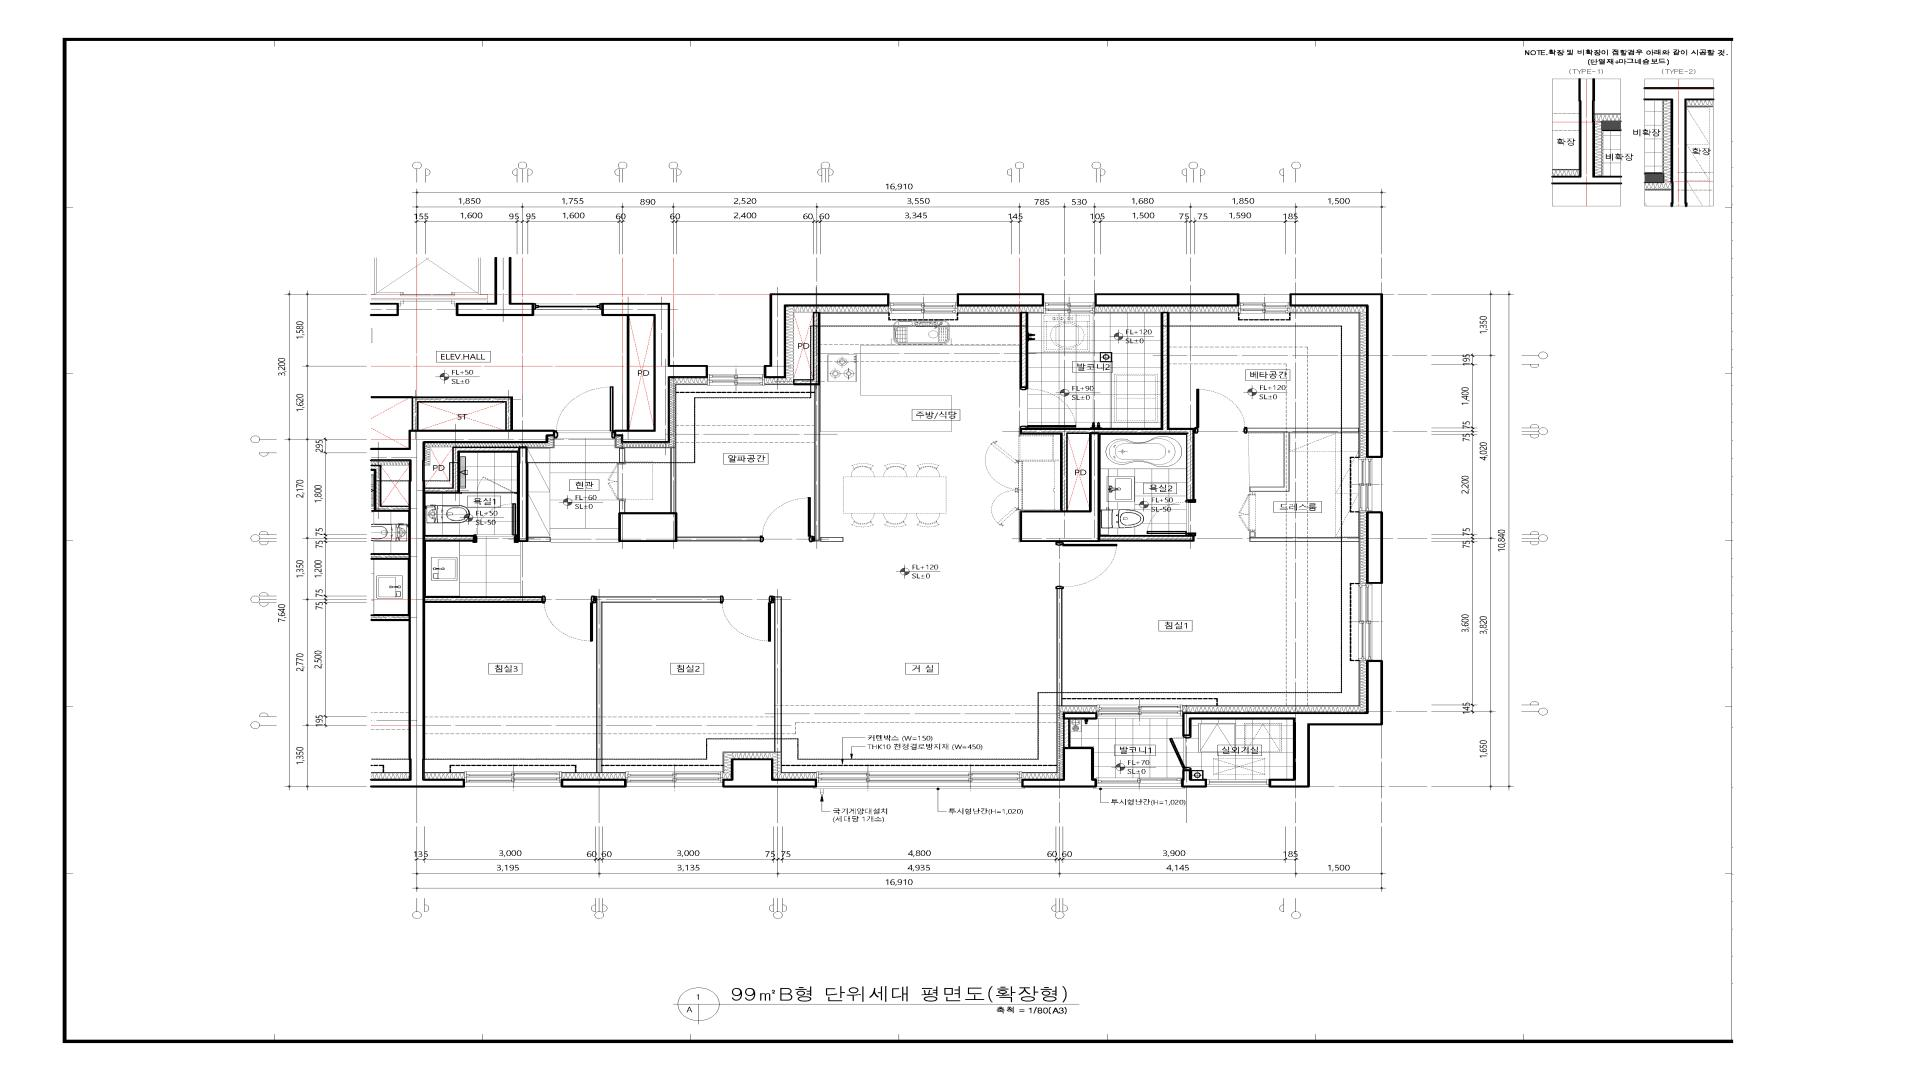door: (554, 386, 615, 438), (1056, 542, 1117, 587), (721, 596, 774, 642), (761, 497, 814, 542), (543, 596, 596, 641), (1193, 388, 1247, 431), (1146, 501, 1196, 535), (476, 504, 517, 542), (1238, 492, 1255, 531), (608, 463, 625, 501), (477, 476, 517, 492)
wall: (369, 429, 554, 787), (1019, 313, 1195, 510), (1182, 661, 1383, 787), (596, 596, 723, 773), (1290, 293, 1383, 458), (603, 303, 708, 443), (764, 293, 889, 378), (814, 385, 843, 541), (456, 257, 534, 315), (425, 447, 518, 493), (1021, 746, 1097, 787), (721, 758, 816, 787), (1250, 433, 1290, 492), (793, 313, 822, 385), (1095, 293, 1240, 306), (774, 596, 782, 752), (1366, 512, 1383, 583), (957, 293, 1043, 306), (1249, 531, 1341, 542), (518, 447, 527, 542), (425, 596, 543, 603), (1100, 535, 1195, 542), (560, 778, 626, 787), (1019, 313, 1027, 388), (1247, 427, 1360, 433), (1182, 769, 1207, 787), (671, 448, 676, 512), (678, 537, 760, 541), (426, 535, 475, 542), (1063, 712, 1097, 719), (1063, 720, 1071, 746), (618, 448, 625, 463), (618, 501, 625, 513)
window: (816, 771, 1022, 789), (1358, 584, 1382, 661), (625, 771, 723, 787), (464, 771, 562, 786), (889, 294, 957, 314), (1358, 458, 1382, 512), (1097, 704, 1182, 719), (1240, 294, 1290, 314), (1044, 294, 1095, 313), (1097, 778, 1182, 789), (534, 303, 601, 315), (708, 375, 764, 385), (1207, 779, 1270, 786)
